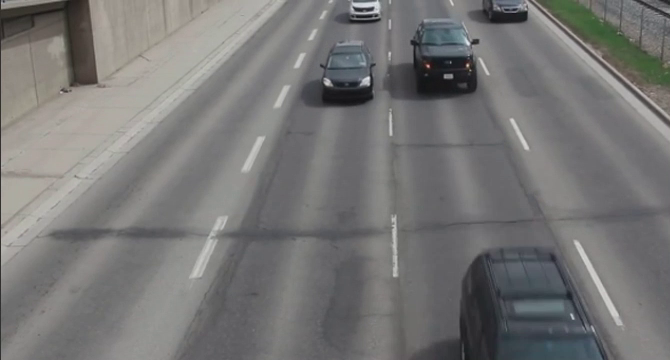car: (451, 245, 609, 360), (408, 18, 479, 93), (322, 37, 372, 105), (485, 1, 531, 26), (349, 1, 382, 23)
